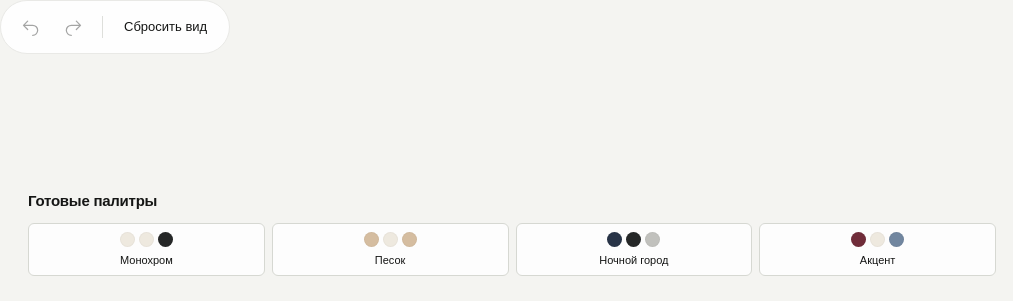
it: desktop presets › applies all preset parts as one undo step and exposes its active state
The width and height of the screenshot is (1013, 301).
Click the button "Ночной город" at (634, 249), box left=516, top=222, right=752, bottom=276
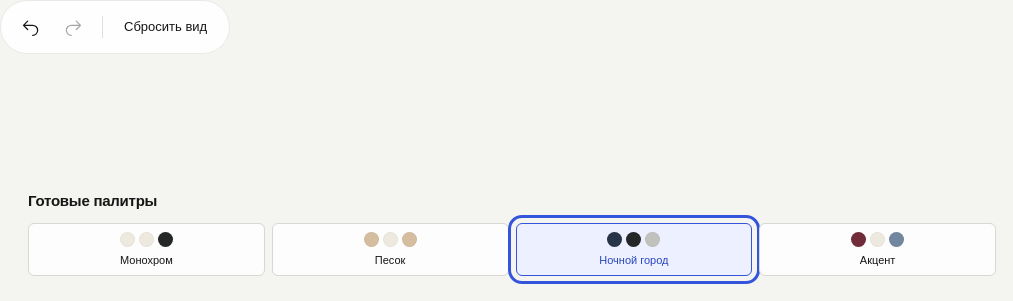
Expected: the button "Ночной город" is pressed, left=516, top=222, right=752, bottom=276
Click the button named "Отменить изменение" at (31, 27), box left=11, top=7, right=51, bottom=47
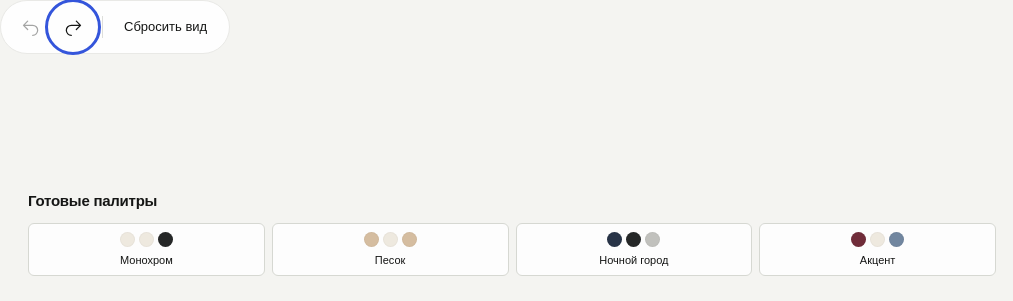
Expected: the button named "Отменить изменение" is disabled, left=11, top=7, right=51, bottom=47
